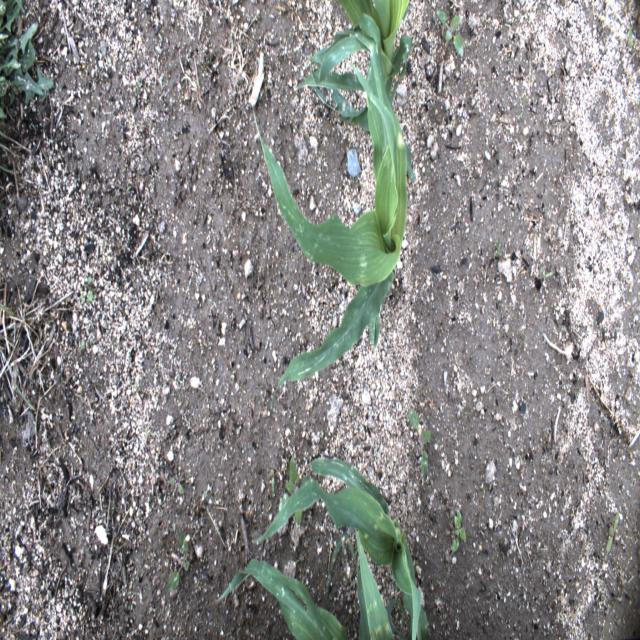crop: (253, 55, 415, 407), (257, 456, 429, 640), (292, 1, 414, 100), (214, 556, 350, 640), (356, 530, 403, 639)
weed: (0, 0, 53, 118), (164, 530, 192, 592), (4, 358, 36, 411), (409, 409, 431, 473), (437, 10, 464, 59), (450, 507, 468, 556), (606, 512, 619, 553), (168, 477, 184, 494), (0, 301, 16, 315), (540, 269, 556, 280), (495, 239, 502, 258), (627, 24, 632, 49), (0, 163, 12, 172), (88, 288, 94, 304), (86, 275, 92, 287), (80, 340, 86, 350)
